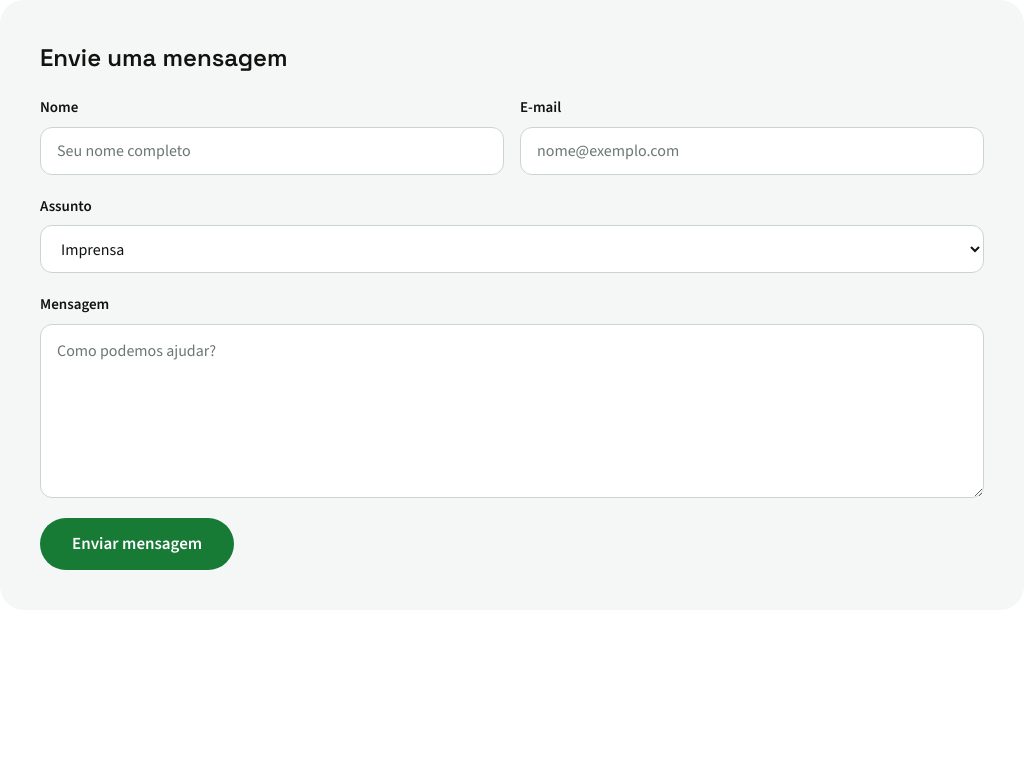
Test case: Contato · formulário › com e-mail institucional, abre o e-mail do visitante com a mensagem para cesam@uems.br
In the field labelled "Nome": (272, 150) x1=40 y1=126 x2=504 y2=174, type "Maria Souza"
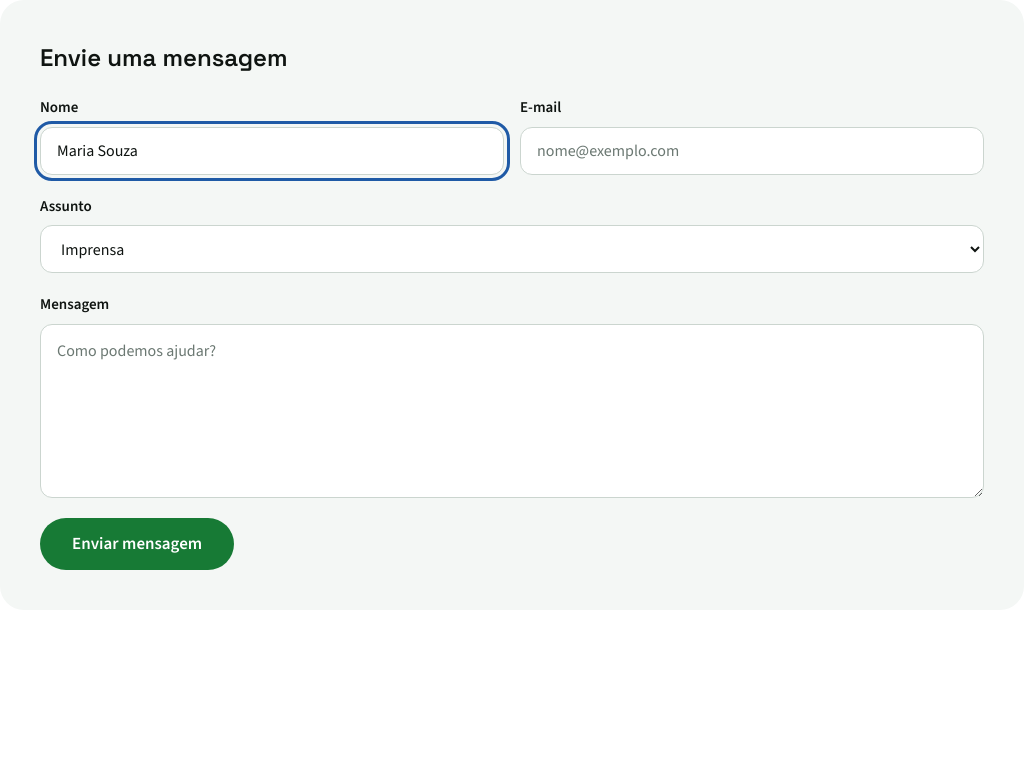
In the field labelled "E-mail": (752, 150) x1=520 y1=126 x2=984 y2=174, type "maria@exemplo.com"
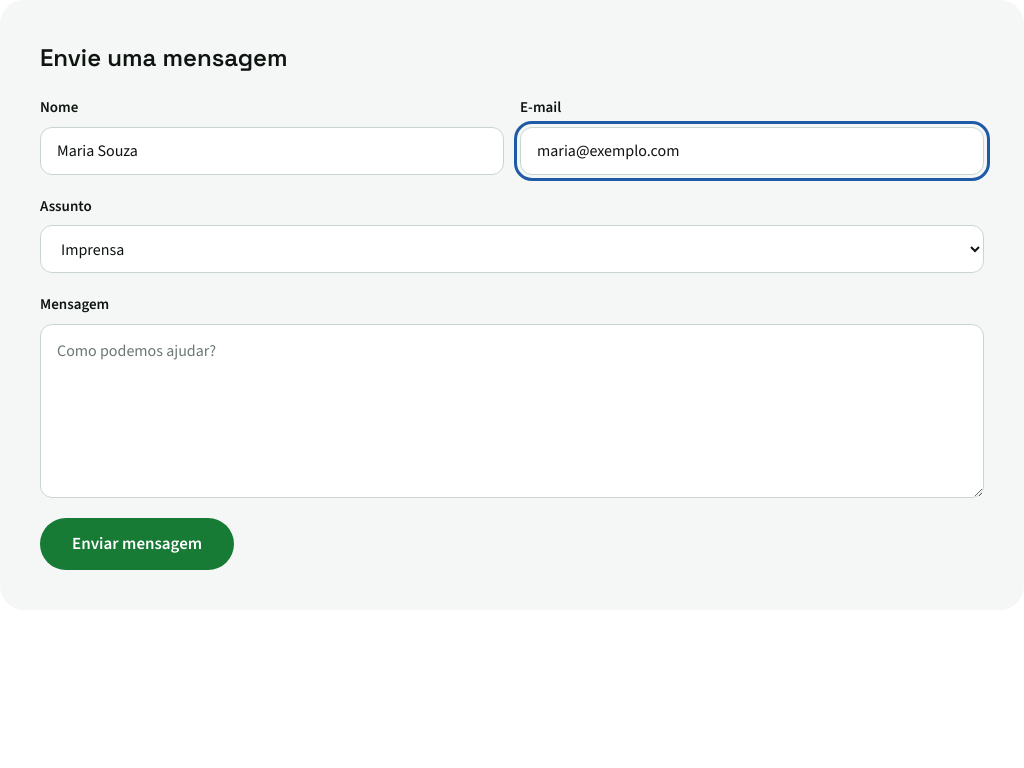
In the text box labelled "Mensagem": (512, 410) x1=40 y1=324 x2=984 y2=498, type "Gostaria de agendar uma visita técnica."
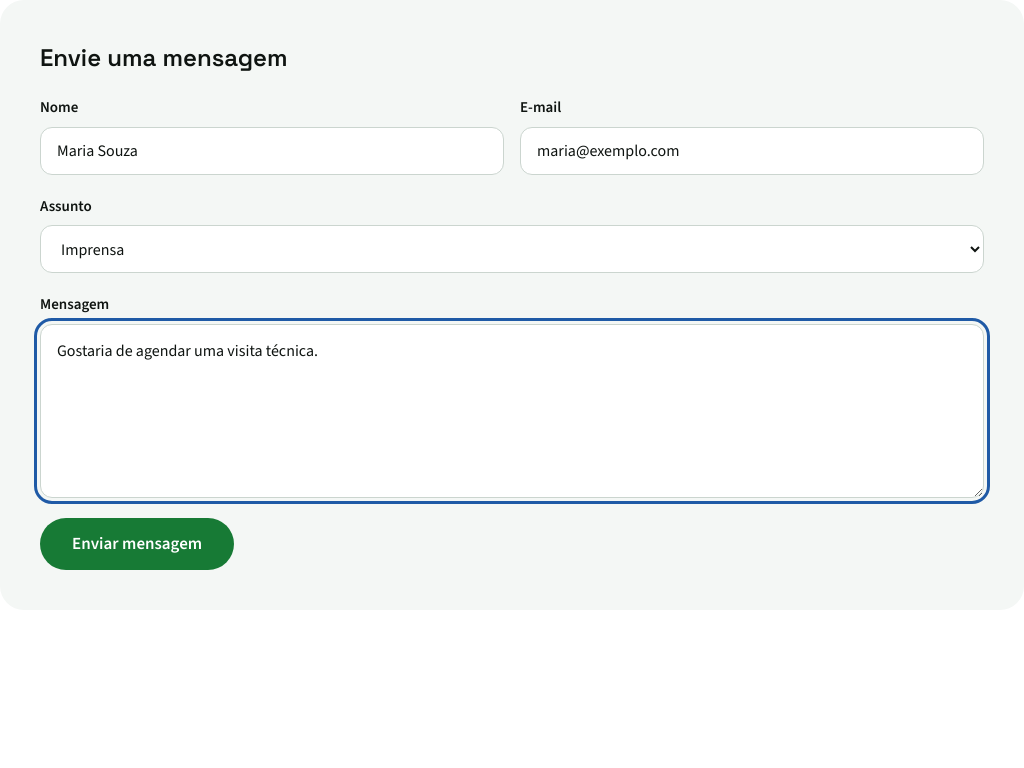
Click the button "Enviar mensagem": (137, 544) x1=40 y1=518 x2=234 y2=570
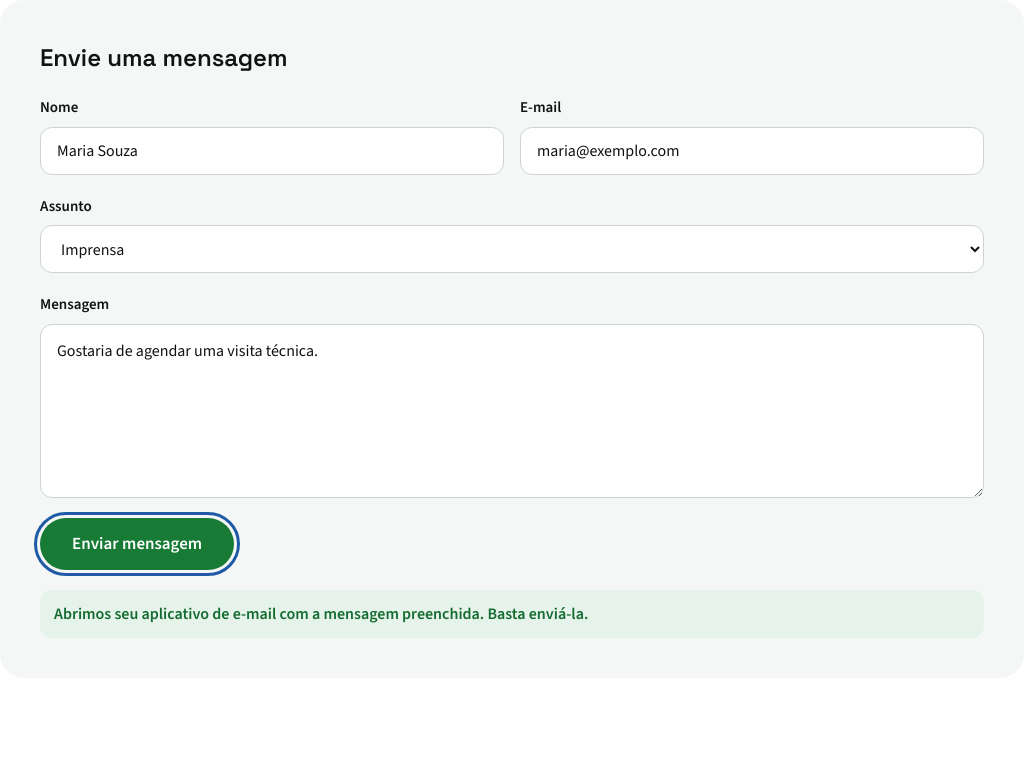
Expected: the message shows "Abrimos seu aplicativo de e-mail", x1=54 y1=602 x2=588 y2=624
